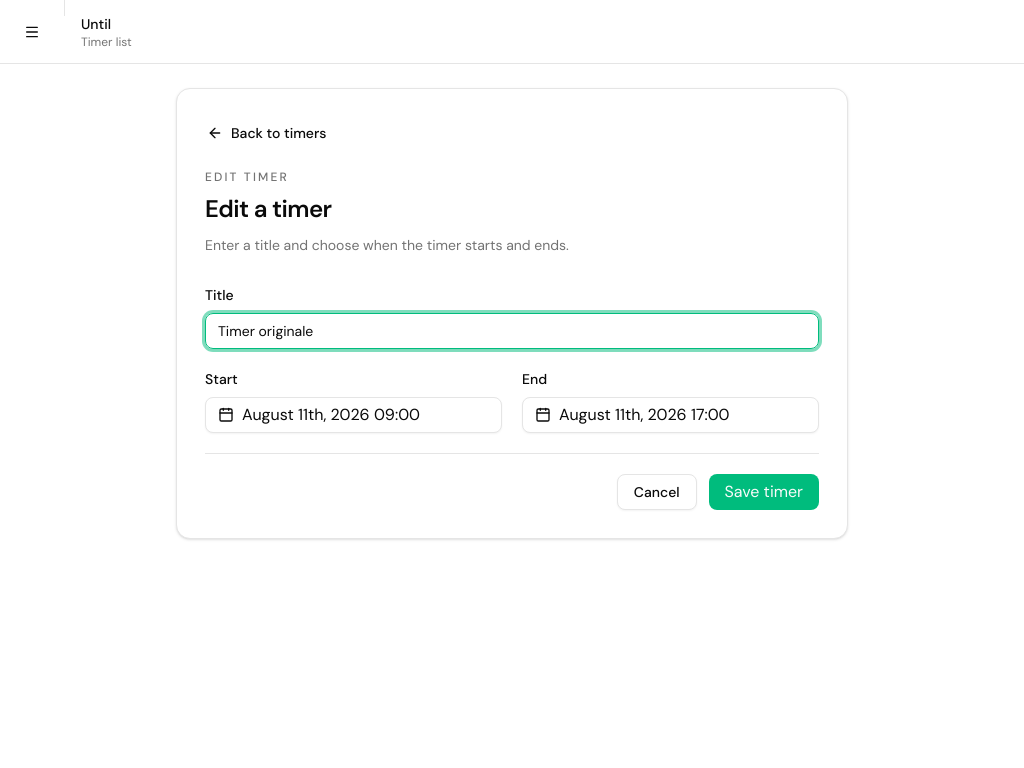
it: application routes › prepopulates and saves the edit timer form
Expected: the heading "Edit a timer" is shown, x1=205 y1=193 x2=332 y2=224
Replace the text in the field labelled "Title" with "Timer aggiornato" at [512, 331], box x1=205 y1=313 x2=819 y2=349
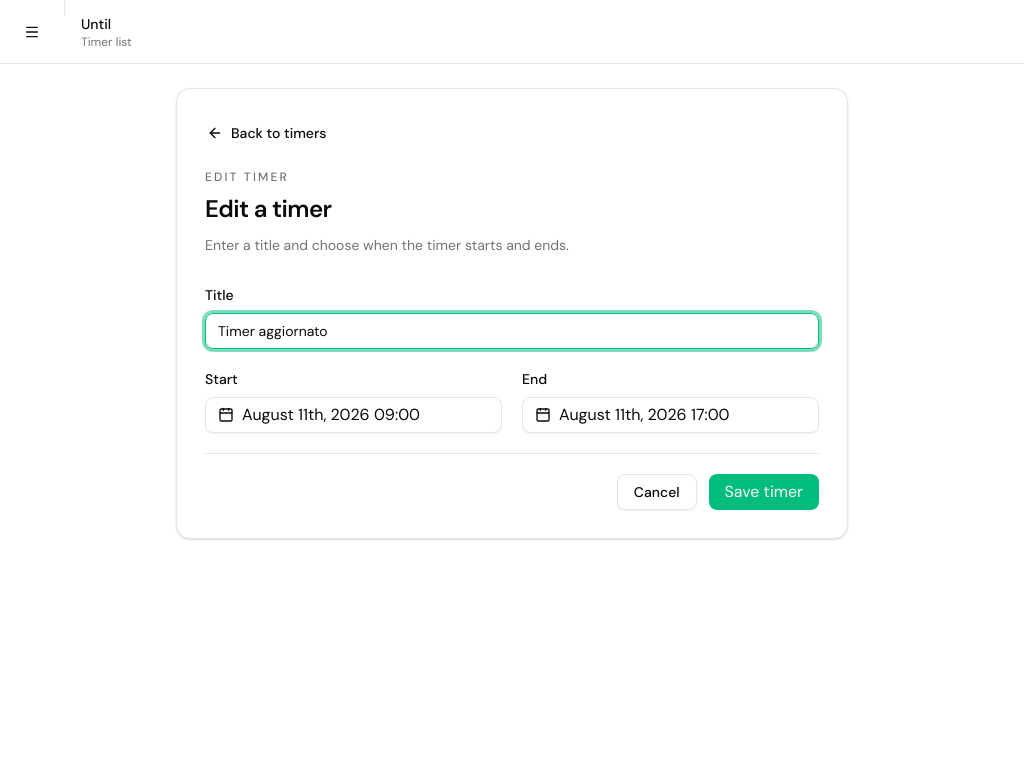
Click the button "Save timer" at [764, 492], box x1=709 y1=474 x2=819 y2=510
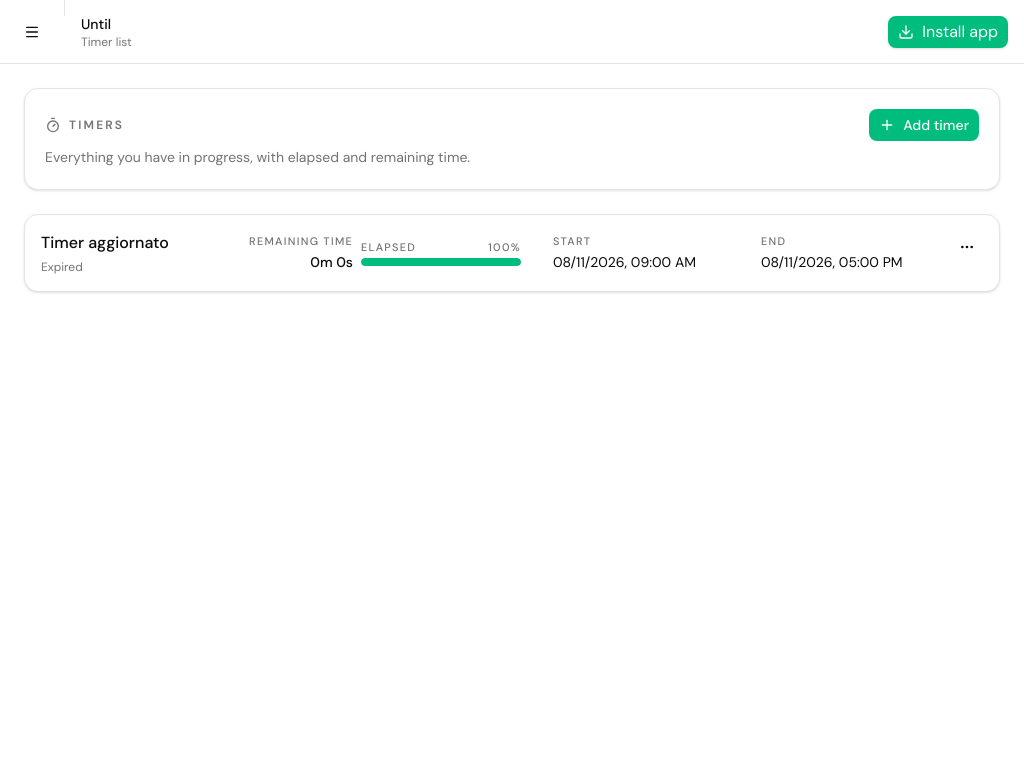
Now the text "Timer aggiornato" is shown, box x1=41 y1=232 x2=169 y2=253
Now the text "Timer aggiornato" is shown 2 times
